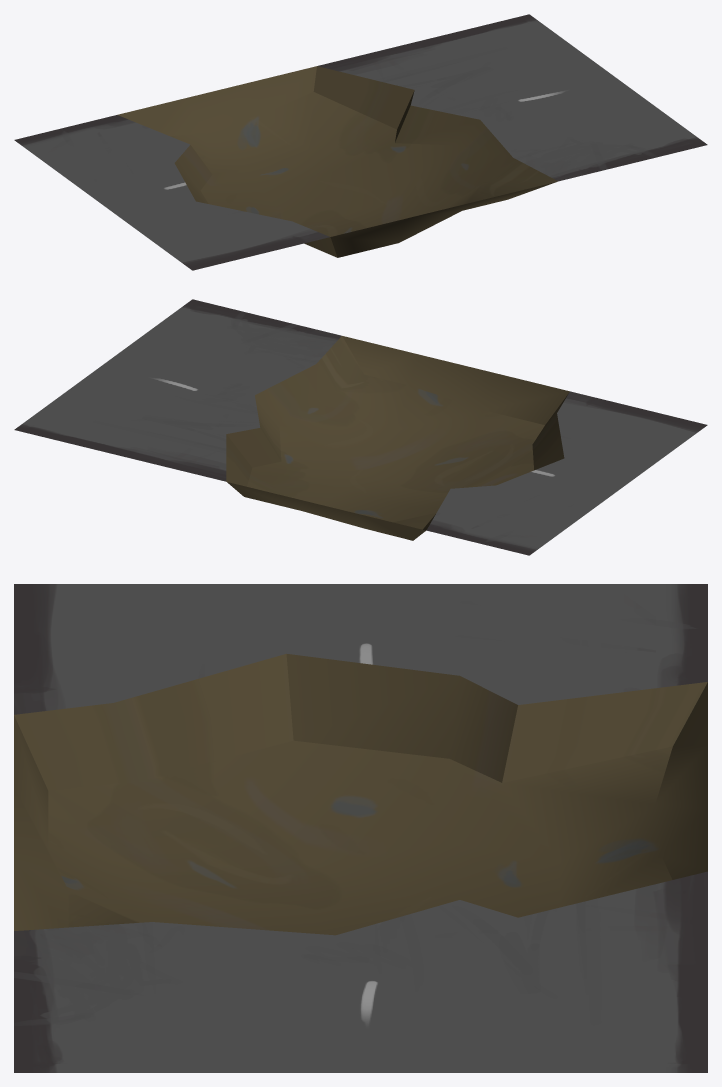
Rendered from roadwork-a.fbx.
3 views of the same model, one above another, from view 1: azimuth 30°, elevation 25°; view 2: azimuth 150°, elevation 25°; view 3: azimuth 270°, elevation 25° (orthographic). The views are drawn at different scales.
Parts seen in each view (by area): view 1: Plane; view 2: Plane; view 3: Plane.
Boxes of the visible parts, x1=… form: Plane: x1=14, y1=14, x2=707, y2=270; Plane: x1=14, y1=299, x2=707, y2=555; Plane: x1=14, y1=584, x2=707, y2=1072.
Bounding box in the file's own units: 1000 × 106 × 600.
